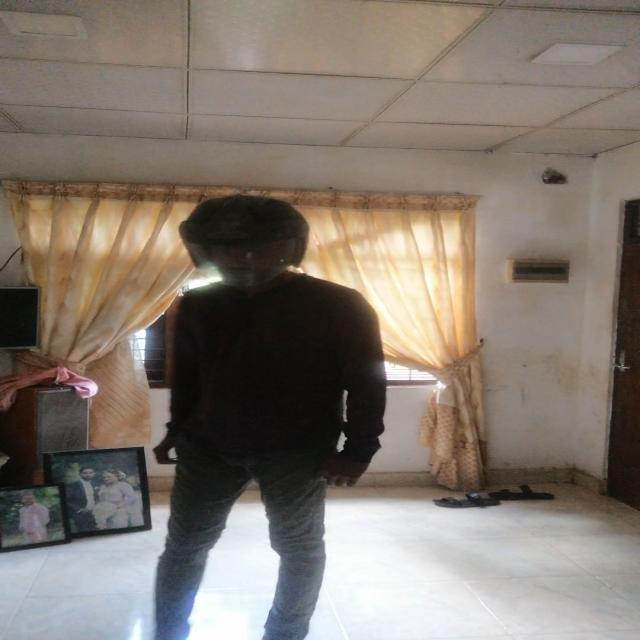Helmet_Wearer: (167, 196, 320, 292)
Person: (148, 185, 375, 631)
